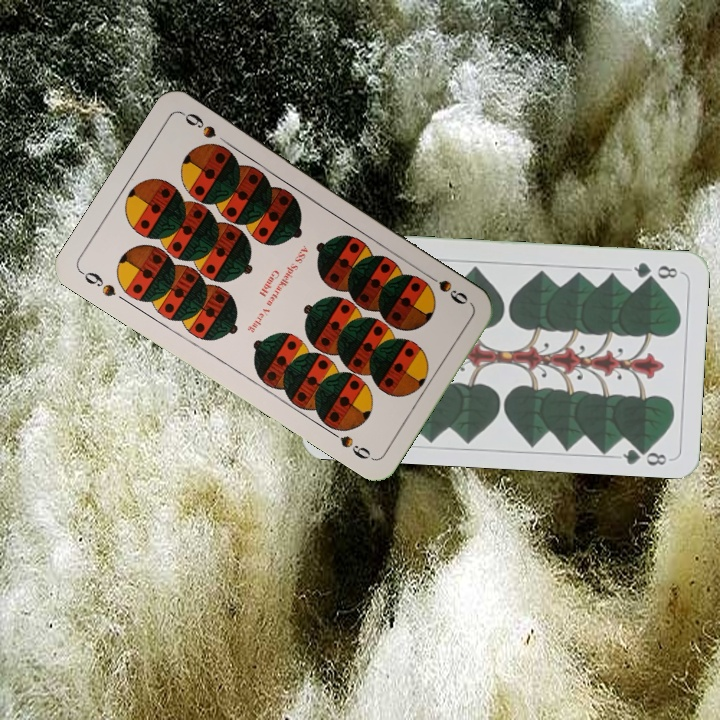G8: (629, 258, 680, 283)
S9: (420, 268, 471, 308), (76, 267, 119, 300)
